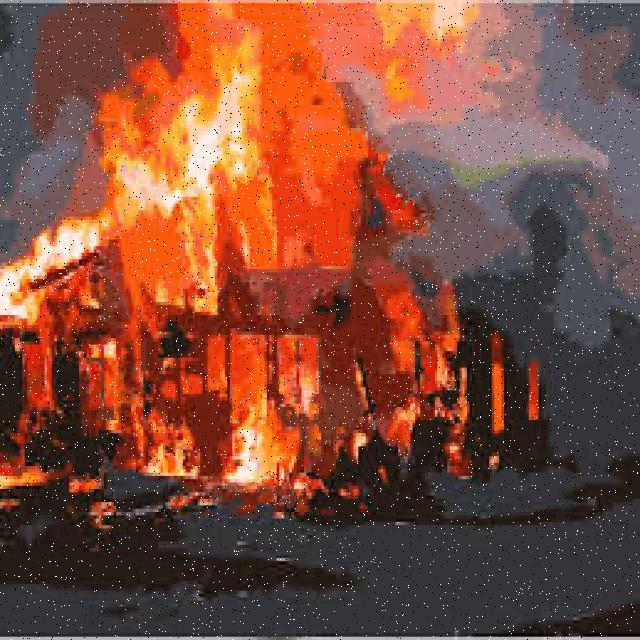fire: (12, 23, 384, 465)
